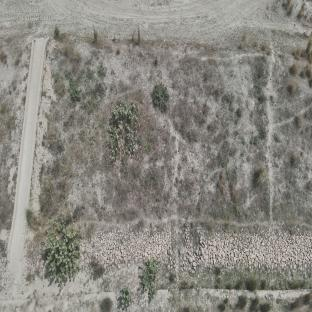rock_toe: (22, 221, 312, 280)
slope_drain: (7, 37, 48, 286)
vegetation: (44, 224, 80, 282), (109, 103, 138, 160)
